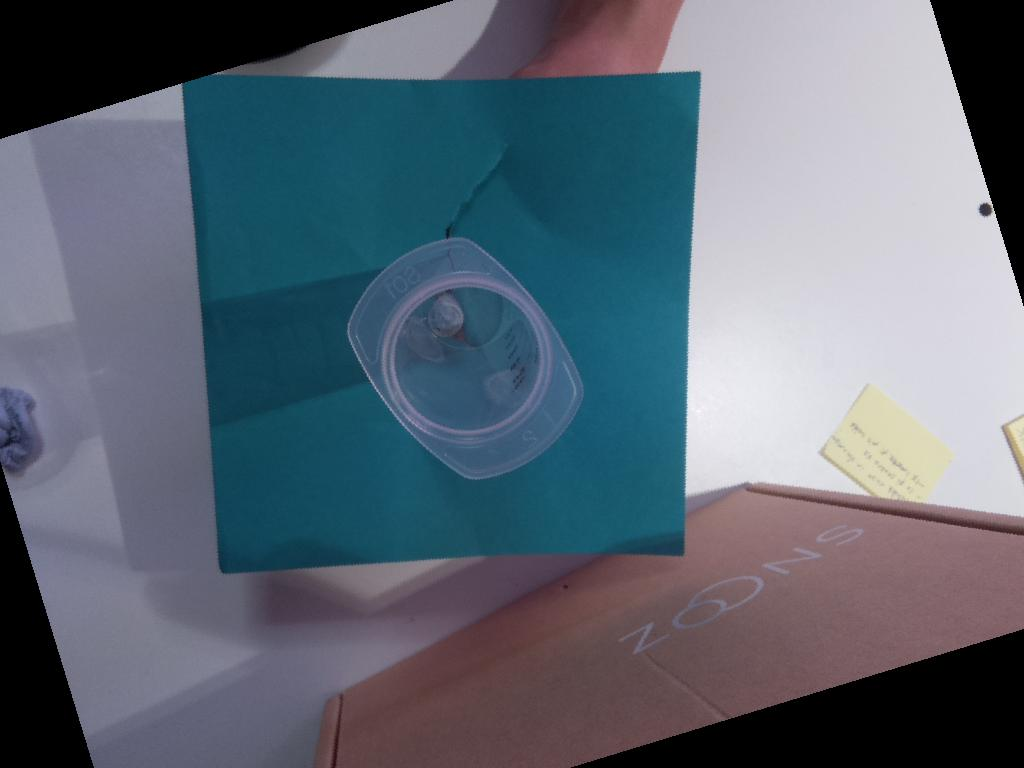clean: (346, 236, 586, 482)
